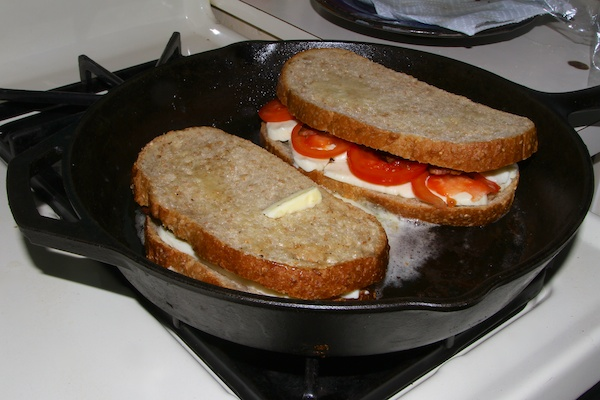sandwich: (108, 105, 411, 340), (235, 42, 556, 242)
